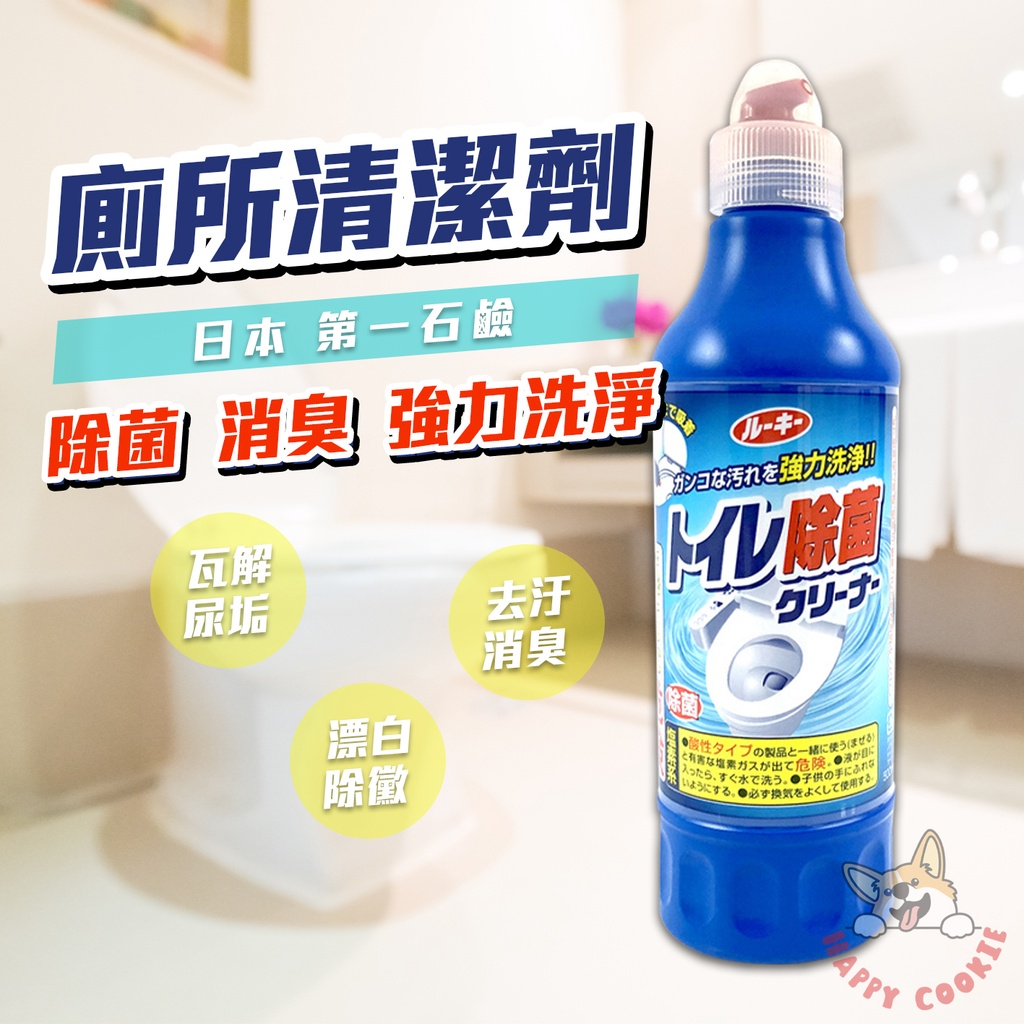cleaner: (615, 49, 910, 972)
